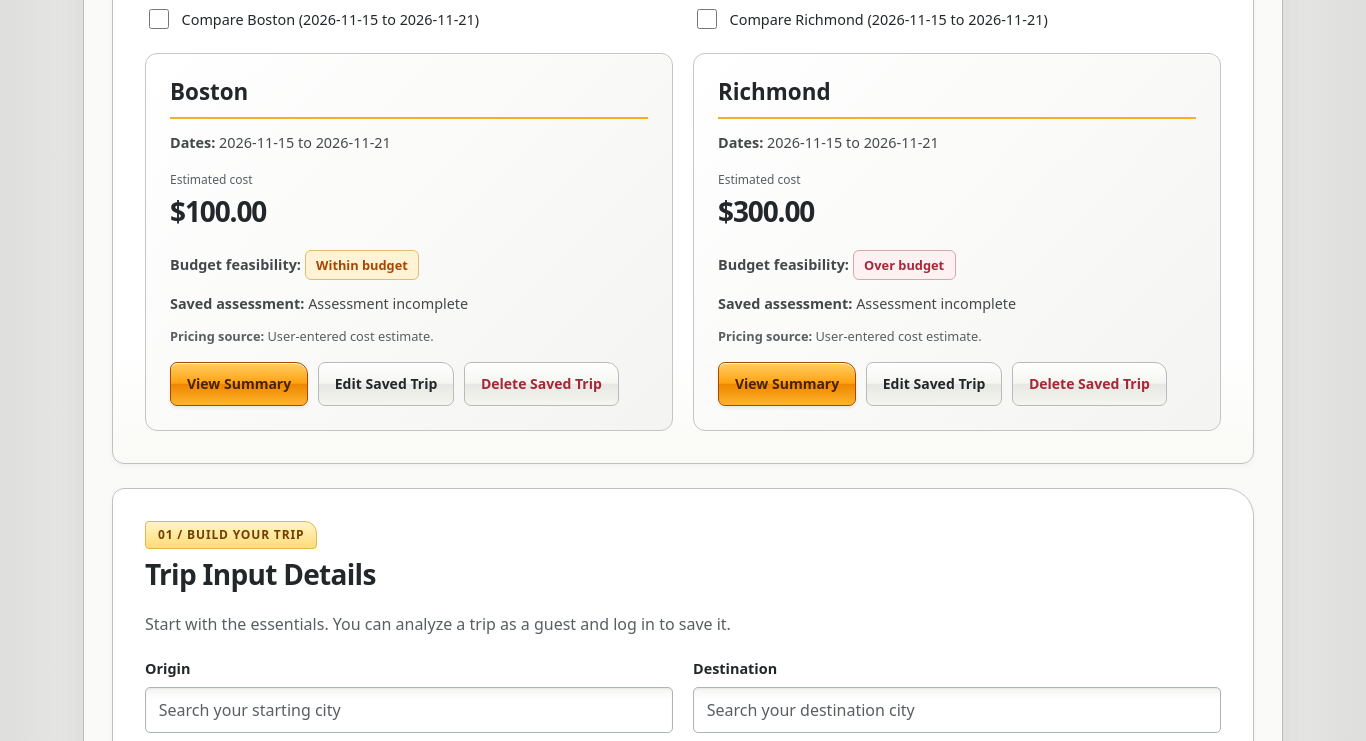
multiple saved trips dashboard › saves a duplicate as an independent trip, then updates it without further duplicates
This screenshot has width=1366, height=741.
Later steps or results of the test are not shown.
(page scrolled)
Click the 1st button "Edit Saved Trip" at (386, 384), box [318, 362, 454, 406]
(page scrolled)
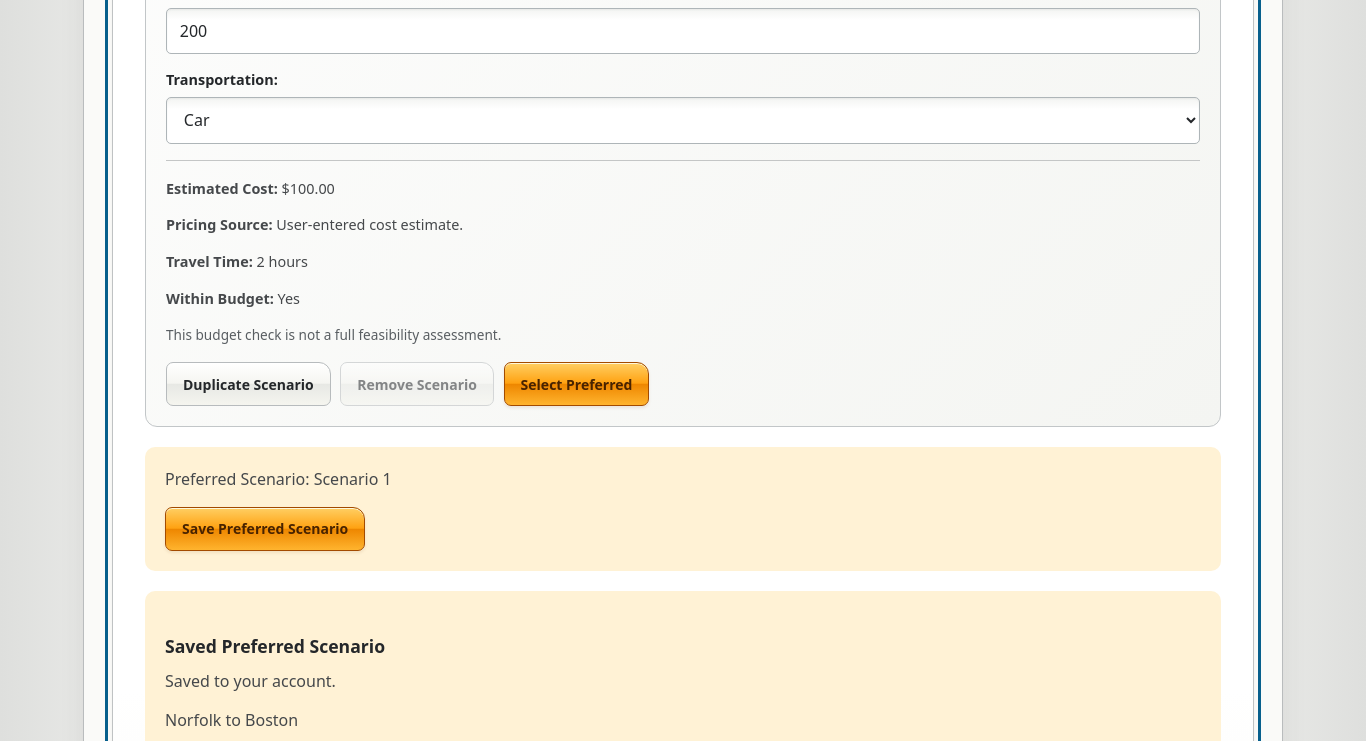
Click the button "Duplicate Scenario" at (248, 384), box [166, 362, 331, 406]
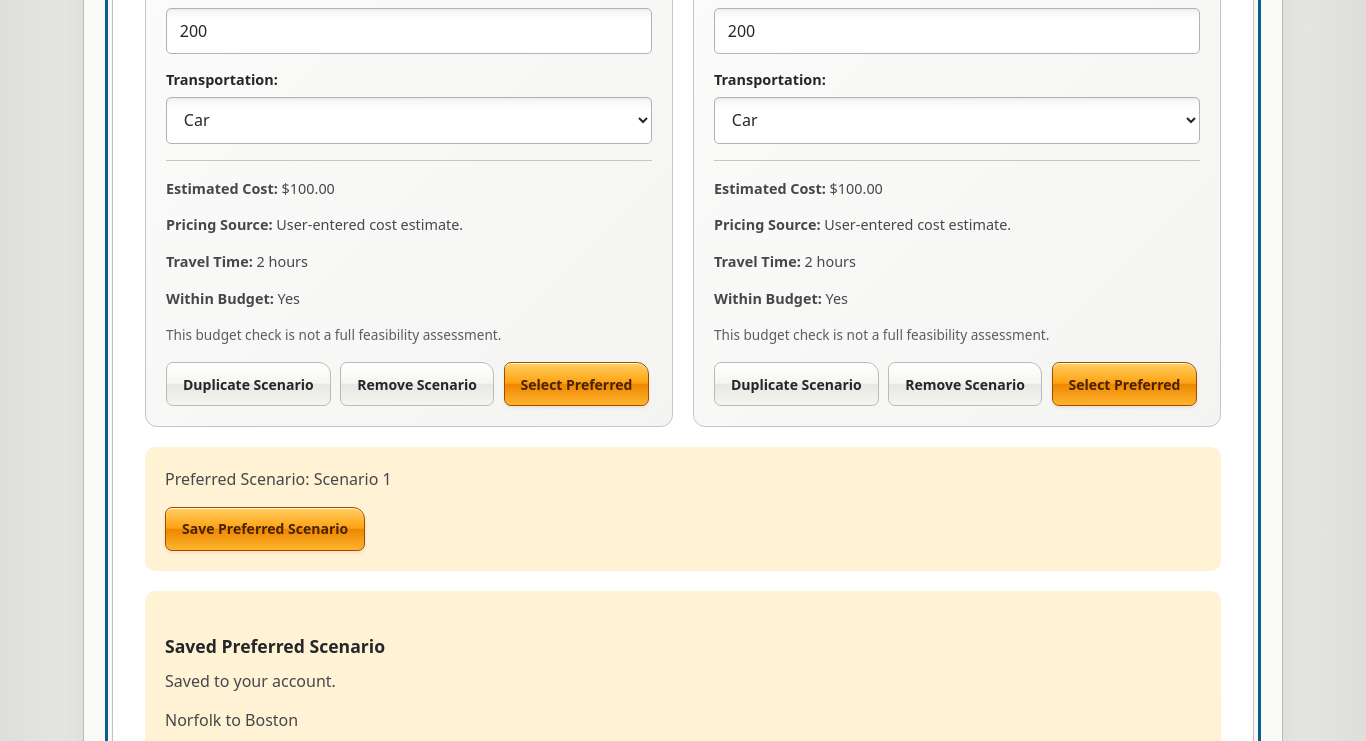
Result: the 2nd button "Select Preferred" is shown
Click the 2nd button "Select Preferred" at (1125, 384), box [1052, 362, 1198, 406]
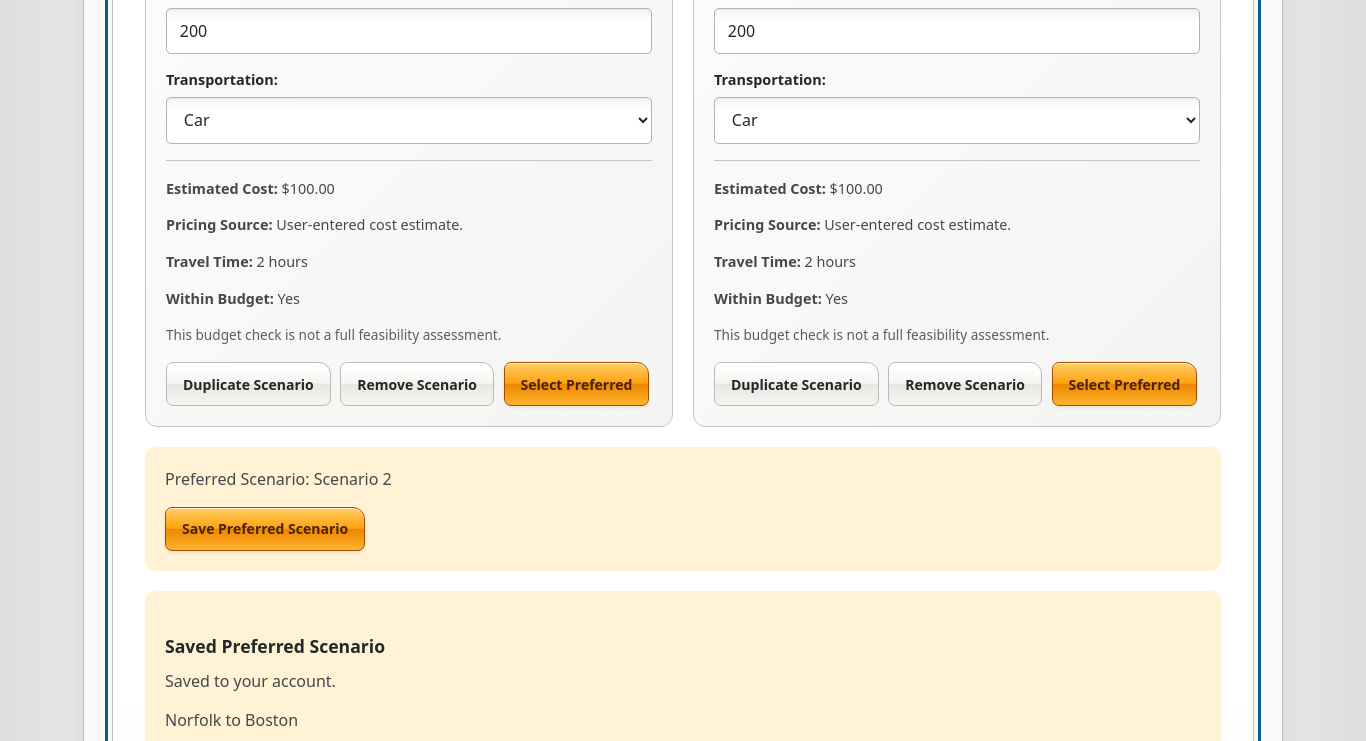
Result: the button "Save Preferred Scenario" is shown
Click the button "Save Preferred Scenario" at (265, 529), box [165, 507, 365, 551]
(page scrolled)
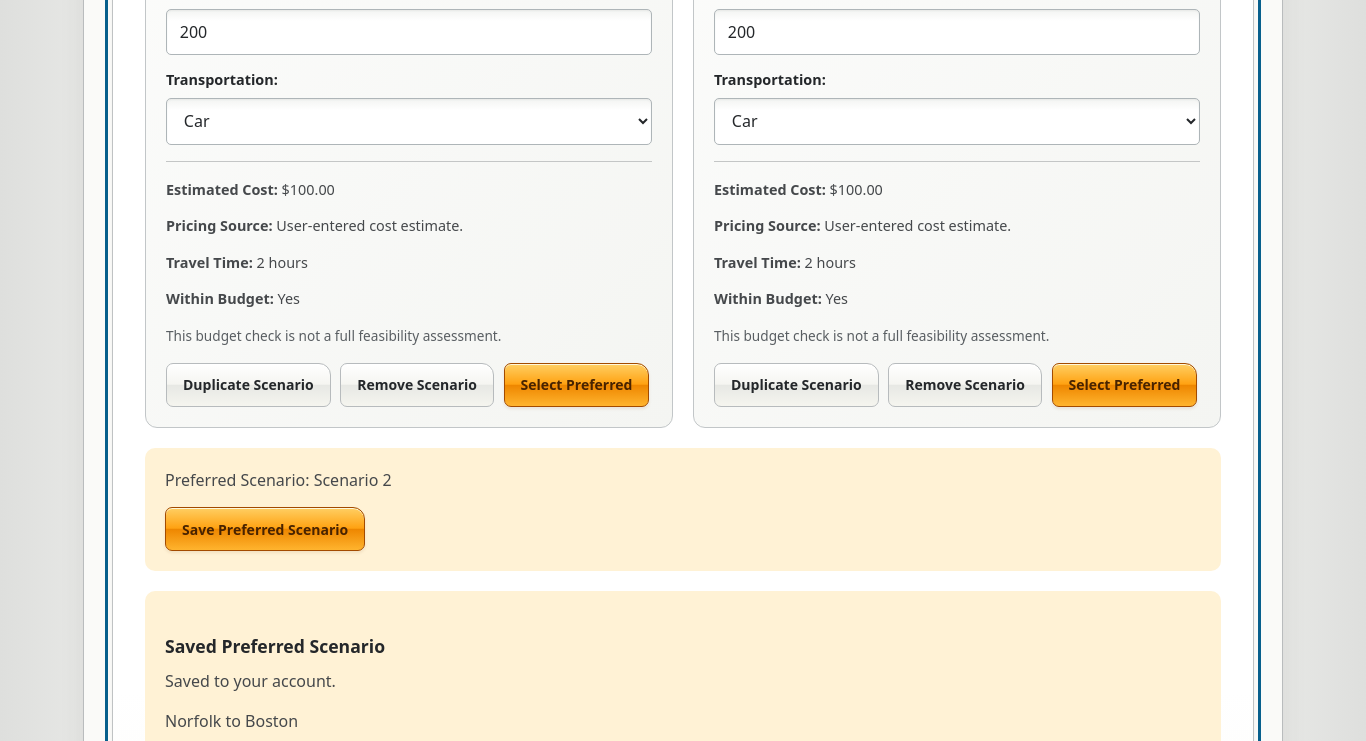
Result: the button "Save Preferred Scenario" is shown at [165, 507, 365, 551]
